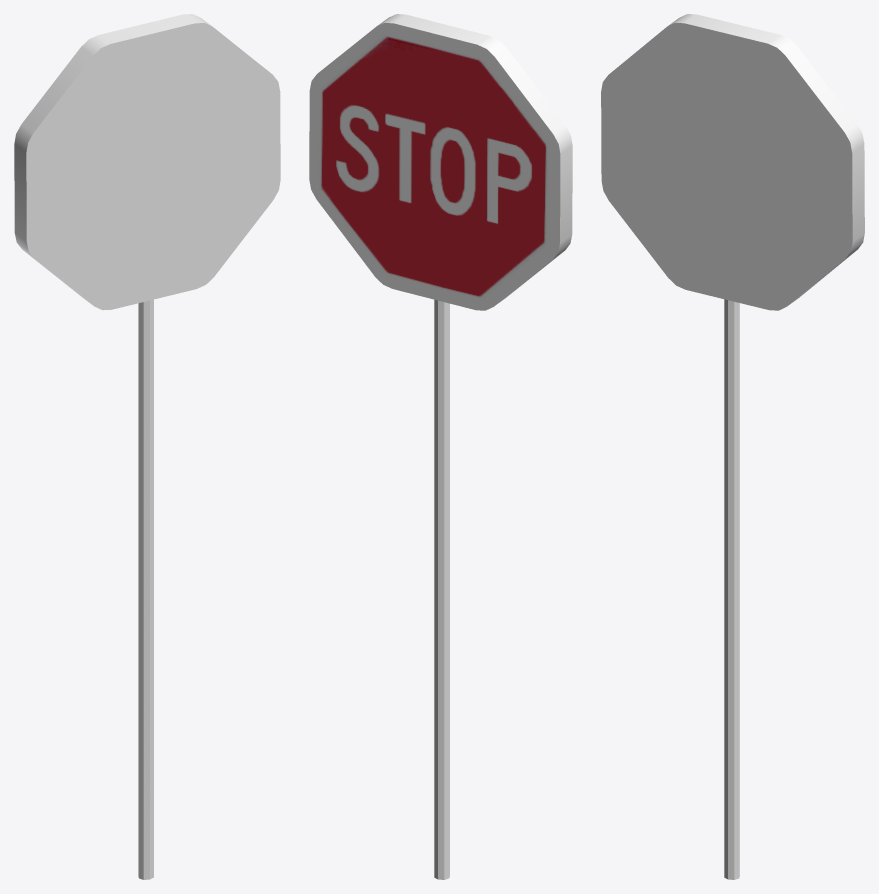
Rendered from LO_Stop_Sign_V2.fbx.
3 views of the same model, side by side, from view 1: azimuth 30°, elevation 25°; view 2: azimuth 150°, elevation 25°; view 3: azimuth 330°, elevation 25° (orthographic).
Parts seen in each view (by area): view 1: Sign; view 2: Sign; view 3: Sign.
Part boxes in pixels (<box>): Sign: <box>14,14,280,879</box>; Sign: <box>309,14,572,879</box>; Sign: <box>601,14,864,879</box>.
Size of the model in its own units: 42.07 by 135 by 3.92.
